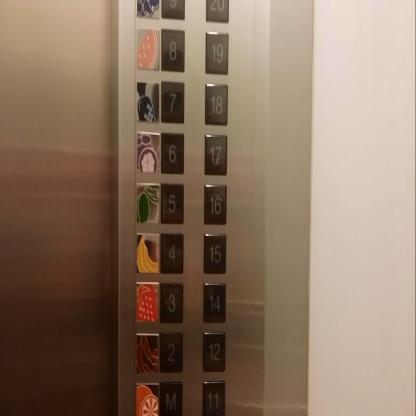11: (201, 378, 226, 416)
12: (201, 329, 226, 374)
14: (202, 280, 226, 324)
15: (203, 232, 228, 275)
16: (203, 182, 227, 226)
17: (203, 131, 228, 177)
18: (204, 81, 228, 126)
19: (204, 29, 229, 76)
2: (158, 330, 184, 374)
3: (158, 280, 184, 324)
4: (159, 230, 184, 274)
5: (160, 181, 184, 225)
6: (160, 130, 184, 174)
7: (159, 79, 185, 125)
8: (160, 26, 186, 72)
M: (158, 378, 183, 416)
